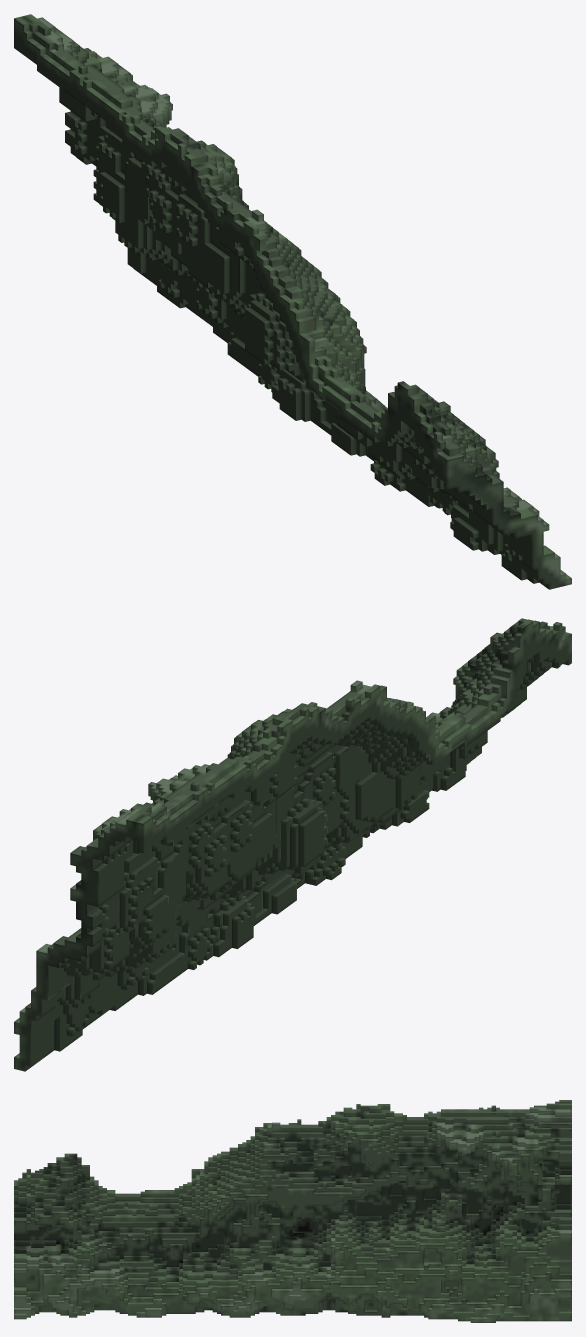
File: treeline01-1-2r.fbx
The picture shows the model from 3 angles, top to bottom: view 1: azimuth 30°, elevation 25°; view 2: azimuth 150°, elevation 25°; view 3: azimuth 270°, elevation 25°; orthographic projection. The views are drawn at different scales.
Parts seen in each view (by area): view 1: treeline01-1-2r; view 2: treeline01-1-2r; view 3: treeline01-1-2r.
Part boxes in pixels (bbox=[...]): treeline01-1-2r: bbox=[14, 14, 571, 589]; treeline01-1-2r: bbox=[14, 618, 571, 1071]; treeline01-1-2r: bbox=[14, 1100, 571, 1322].
Size of the model in its own units: 24 by 47 by 132.
